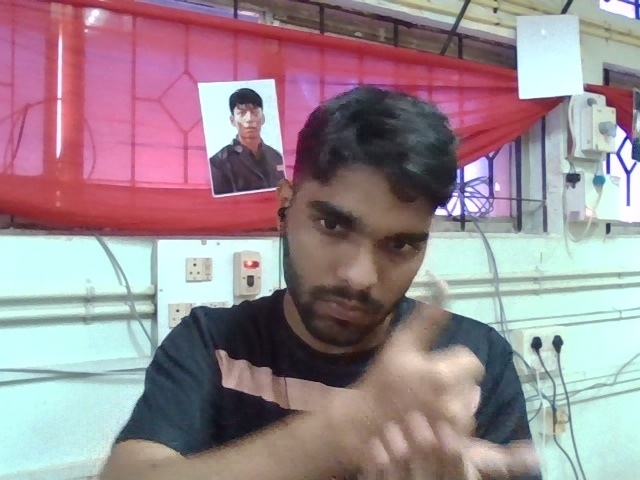help: (294, 262, 538, 480)
